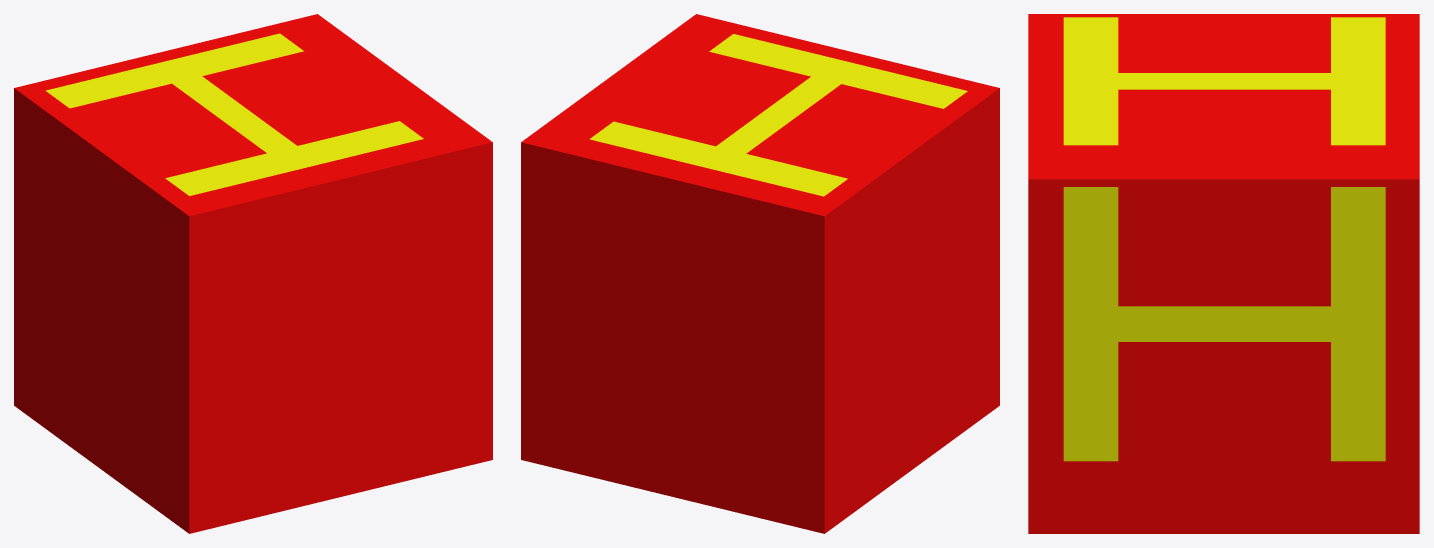
File: LetterH.fbx
The picture shows the model from 3 angles, left to right: view 1: azimuth 30°, elevation 25°; view 2: azimuth 150°, elevation 25°; view 3: azimuth 270°, elevation 25°; orthographic projection. The views are drawn at different scales.
Parts seen in each view (by area): view 1: Cube, Text; view 2: Cube, Text; view 3: Cube, Text.001, Text.
Boxes of the visible parts, x1,y1,x2,y2 form: Cube: (14,14,492,533); Text: (46,33,423,195); Cube: (521,14,999,533); Text: (589,34,967,196); Cube: (1028,14,1419,533); Text.001: (1063,187,1385,461); Text: (1063,17,1385,145).
Size of the model in its own units: 201 by 203 by 200.
